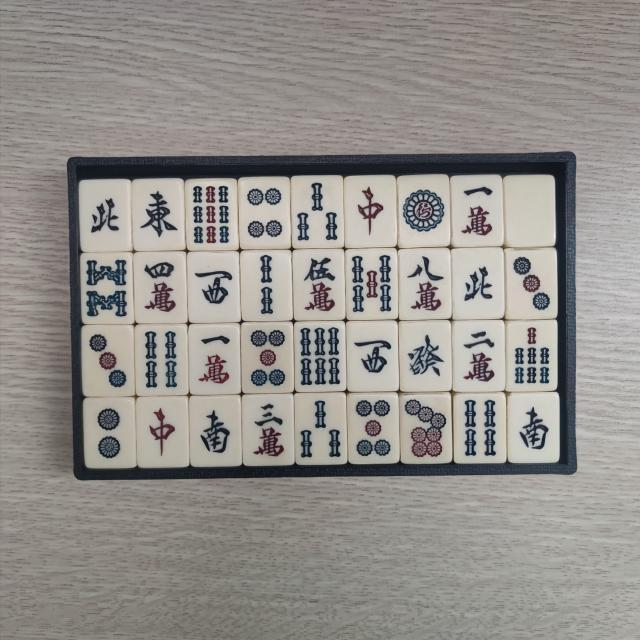hdg: (404, 325, 448, 387)
hdr: (348, 178, 391, 242), (142, 400, 182, 462)
hdw: (510, 180, 551, 242)
hwe: (136, 182, 180, 245)
hwn: (82, 184, 124, 247), (459, 252, 500, 314)
hws: (194, 400, 237, 462), (514, 398, 554, 458)
hww: (352, 326, 395, 388), (192, 256, 235, 317)
sb2: (247, 254, 290, 318)
sb3: (297, 178, 343, 244), (296, 398, 342, 462)
sb4: (140, 328, 183, 392), (458, 396, 500, 459)
sb5: (350, 254, 394, 319)
sb6: (300, 326, 344, 388)
sb7: (511, 326, 554, 388)
sb8: (85, 256, 130, 320)
sb9: (190, 183, 233, 246)
sc1: (194, 328, 236, 389), (456, 180, 498, 240)
sc2: (459, 325, 501, 387)
sc3: (248, 398, 290, 460)
sc4: (138, 256, 182, 318)
sc5: (298, 253, 342, 317)
sc8: (403, 252, 448, 316)
sd1: (402, 180, 448, 243)
sd2: (89, 405, 130, 465)
sd3: (86, 330, 131, 393), (509, 254, 554, 316)
sd4: (242, 182, 286, 244)
sd5: (351, 398, 394, 460), (248, 327, 290, 390)
sd7: (405, 398, 449, 460)
